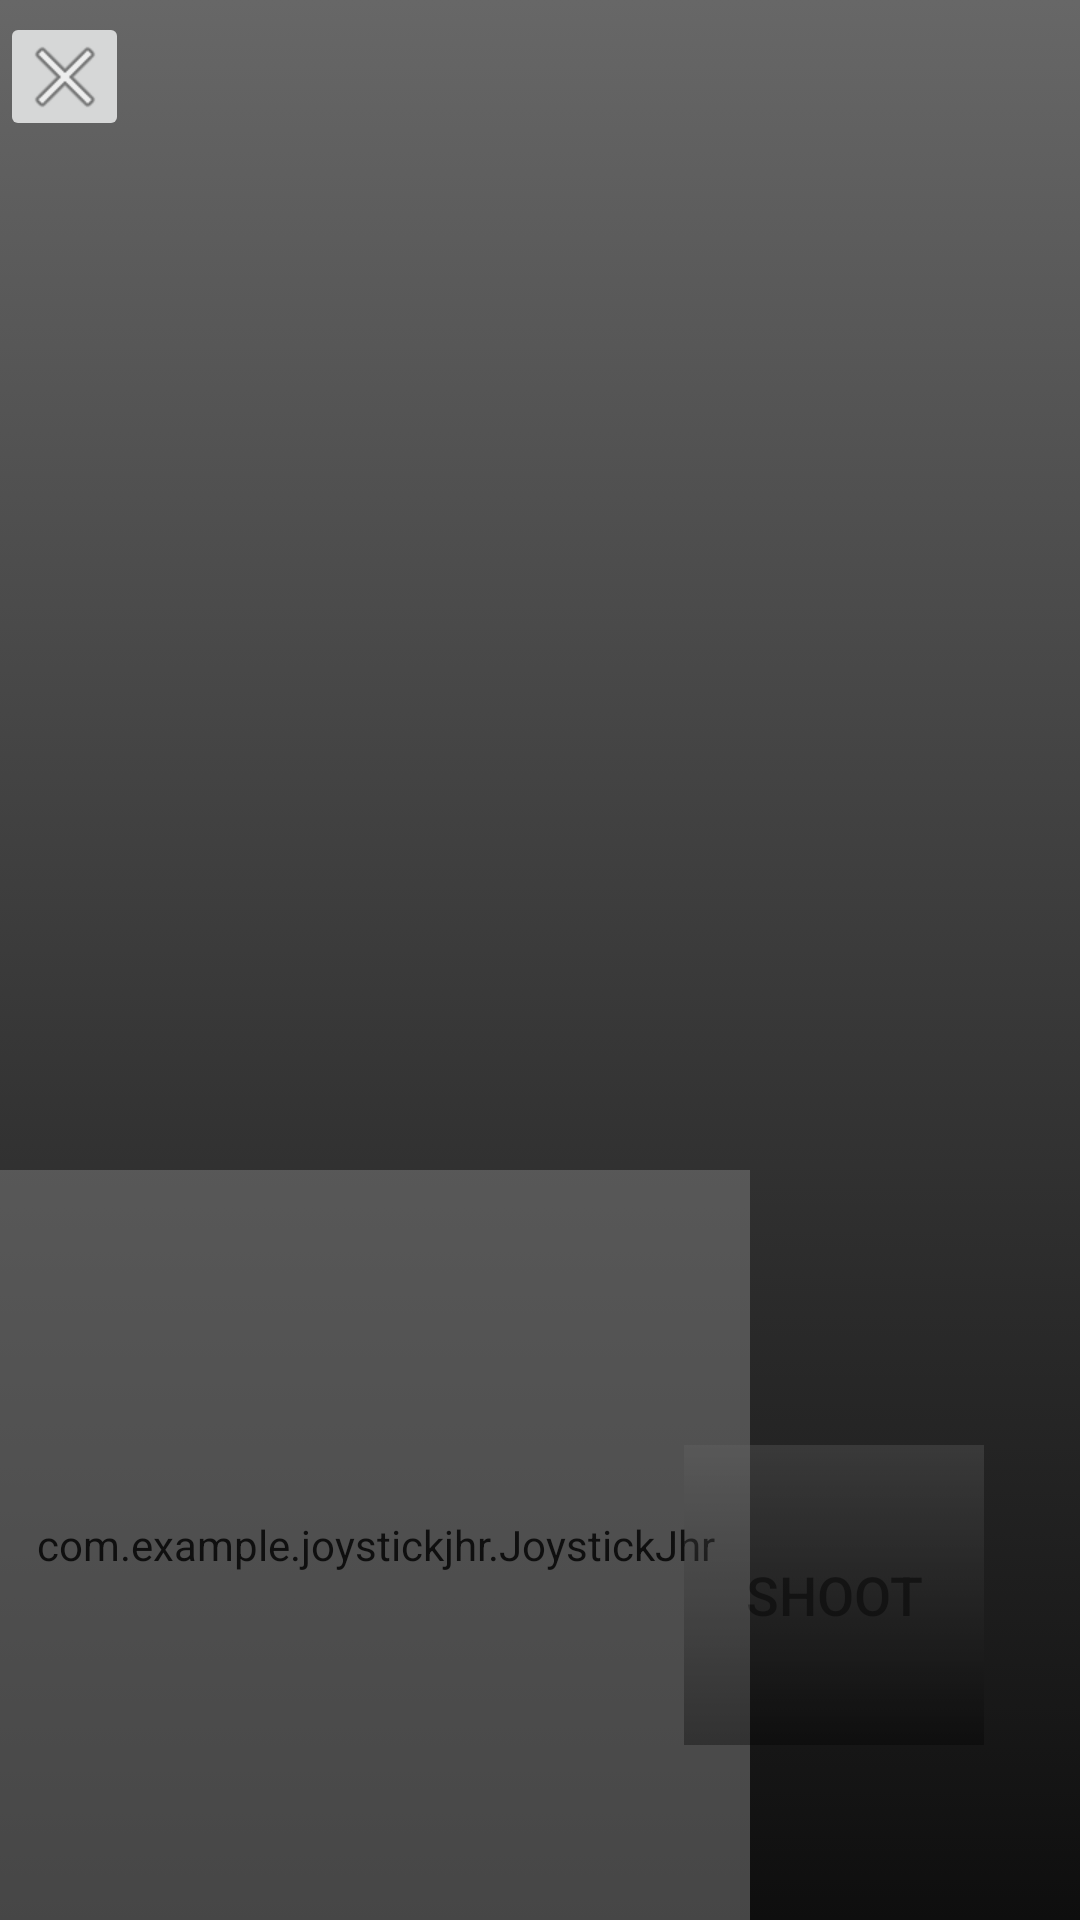

Screen size 1080w x 1920h. Icon name, then its box in pixels as region(x1, y1, x2, y2):
close clear cancel: region(12, 30, 117, 123)
